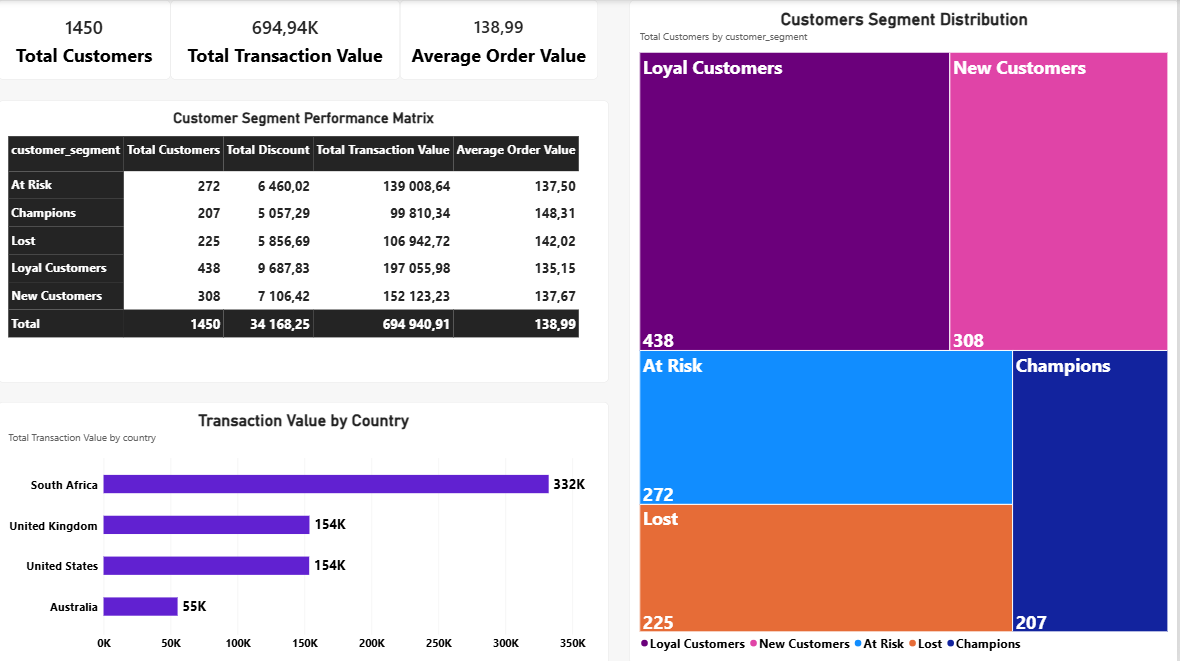

The dashboard page shown, as its layout file describes it:
{"tool":"powerbi","page":{"name":"Customer Segmentation & Lifetime Value","canvas":[1920,1080],"ordinal":1},"visuals":[{"type":"card","fields":{"Values":["Fact_Transactions.Total Customers"]},"box":[0,0,280.6,129.3],"z":0},{"type":"card","fields":{"Values":["Fact_Transactions.Total Transaction Value"]},"box":[280.6,0,373.3,129.3],"z":1},{"type":"card","fields":{"Values":["Fact_Transactions.Average Order Value"]},"box":[653.9,0,322.1,129.3],"z":2},{"type":"treemap","title":"Customers Segment Distribution","fields":{"Group":["Dim_Customer.customer_segment"],"Values":["Fact_Transactions.Total Customers"]},"box":[1027.2,0,893,1080.8],"z":3},{"type":"clusteredBarChart","title":"Transaction Value by Country","fields":{"Category":["Dim_Customer.country"],"Y":["Fact_Transactions.Total Transaction Value"]},"box":[0,653.9,993,427],"z":4},{"type":"pivotTable","title":"Customer Segment Performance Matrix","fields":{"Values":["Fact_Transactions.Total Customers","Fact_Transactions.Total Discount","Fact_Transactions.Total Transaction Value","Fact_Transactions.Average Order Value"],"Rows":["Dim_Customer.customer_segment"]},"box":[0,163.5,993,458.7],"z":5}]}

Visuals, with their boxes in screenshot pixels (x1, y1, x2, y2), scaled from the page's 1920x1080 canvas onto the 1180x661 screenshot:
card - Fact_Transactions.Total Customers: (left=0, top=0, right=172, bottom=79)
card - Fact_Transactions.Total Transaction Value: (left=172, top=0, right=402, bottom=79)
card - Fact_Transactions.Average Order Value: (left=402, top=0, right=600, bottom=79)
"Customers Segment Distribution" treemap: (left=631, top=0, right=1179, bottom=660)
"Transaction Value by Country" clusteredBarChart: (left=0, top=400, right=610, bottom=660)
"Customer Segment Performance Matrix" pivotTable: (left=0, top=100, right=610, bottom=381)
